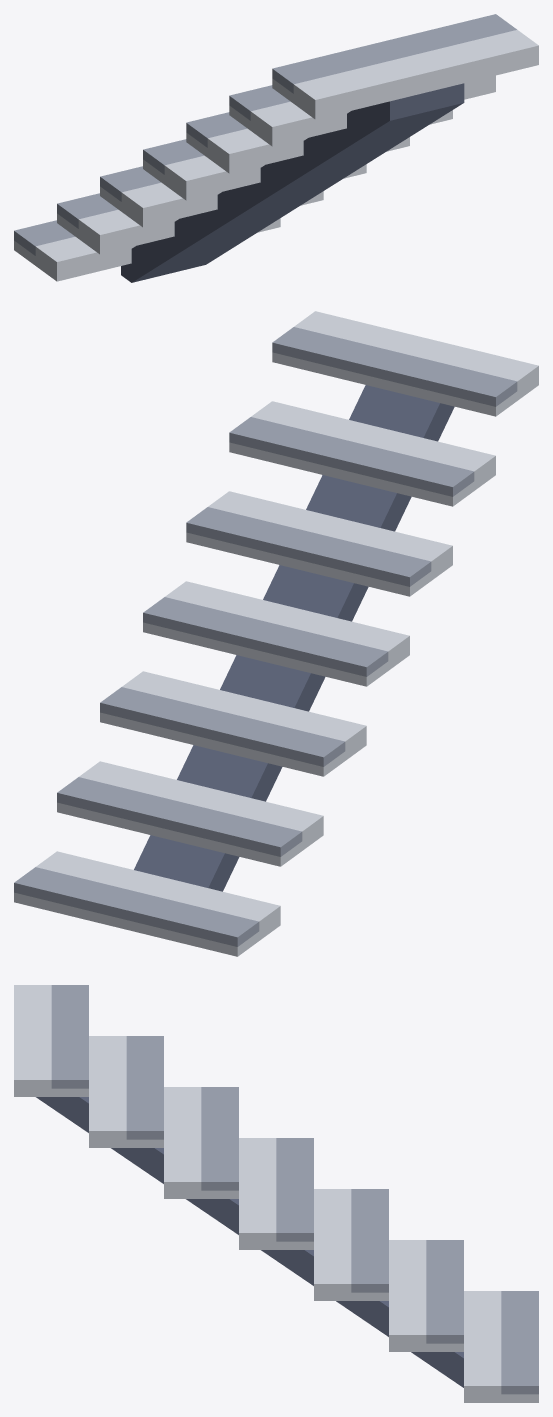
Rendered from stairs.glb.
3 views of the same model, one above another, from view 1: azimuth 30°, elevation 25°; view 2: azimuth 150°, elevation 25°; view 3: azimuth 270°, elevation 25° (orthographic). The views are drawn at different scales.
Visible parts, largest first — view 1: stairs; view 2: stairs; view 3: stairs.
Boxes of the visible parts, x1,y1,x2,y2 form: stairs: (14, 14, 538, 282); stairs: (14, 311, 538, 956); stairs: (14, 985, 538, 1402).
Size of the model in its own units: 0.3 by 0.5 by 0.7.
